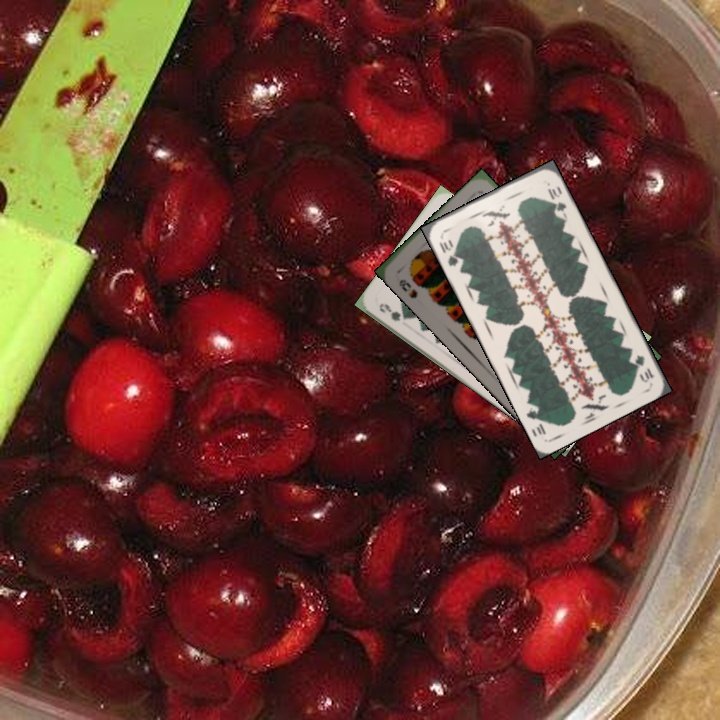G10: (435, 235, 465, 270), (630, 351, 656, 385)
G9: (375, 299, 411, 324)
S8: (395, 275, 420, 301)
